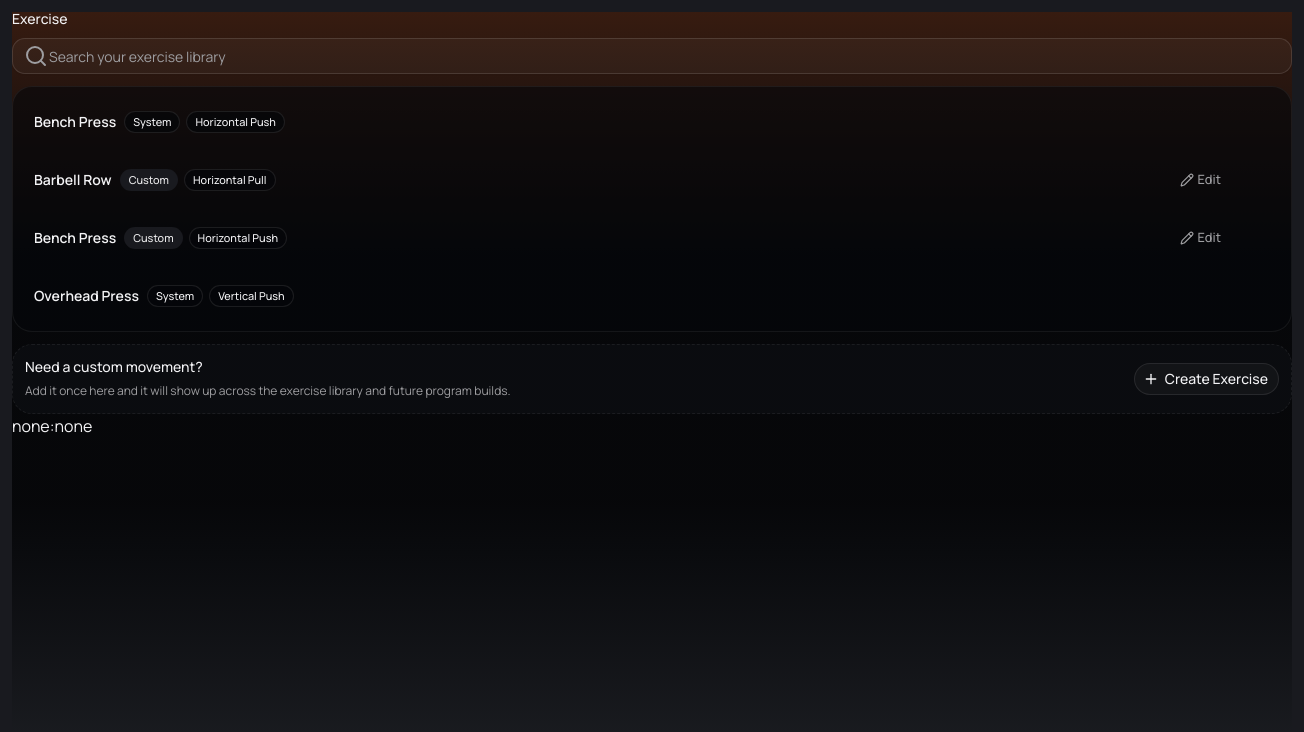
Test: ExerciseLibraryField › tracks selection by exercise id when duplicate names exist
Type "bench" into the field labelled "Exercise" at (652, 56), box left=12, top=38, right=1292, bottom=74
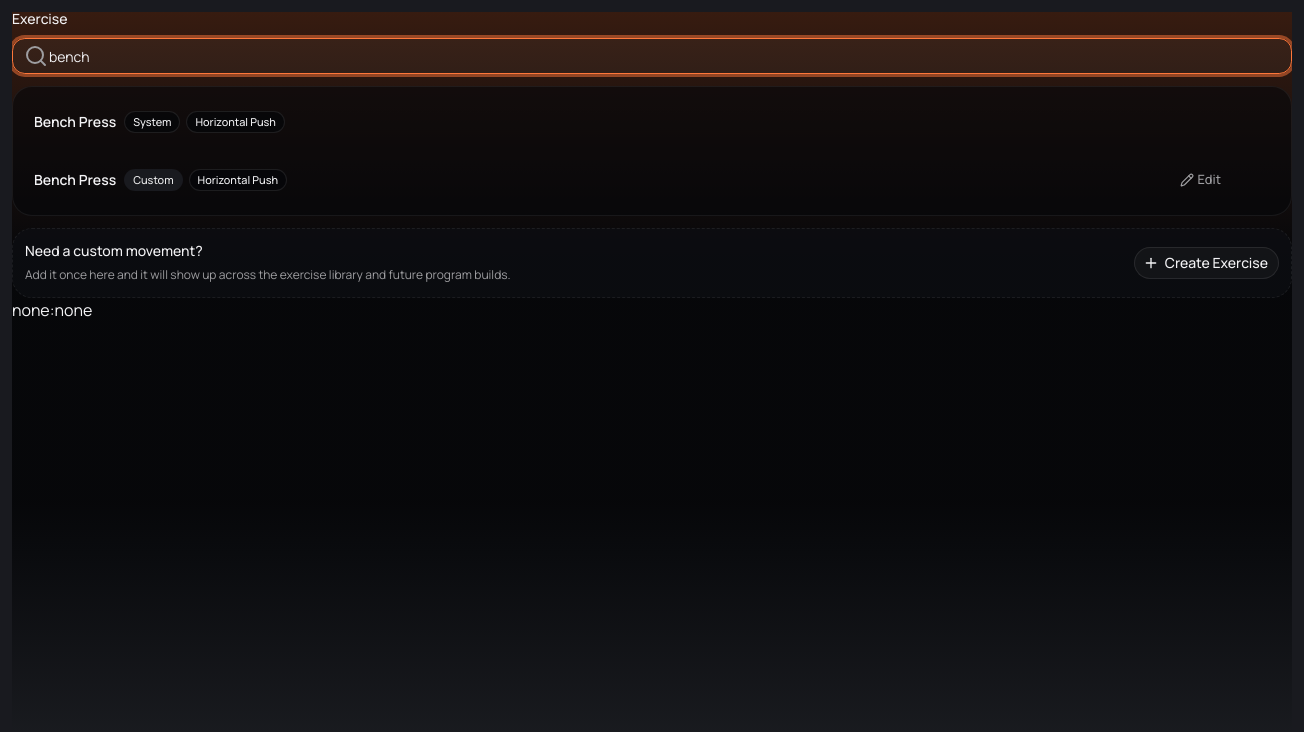
Click the button named "Choose Bench Press" at (652, 180), box left=22, top=154, right=1282, bottom=206
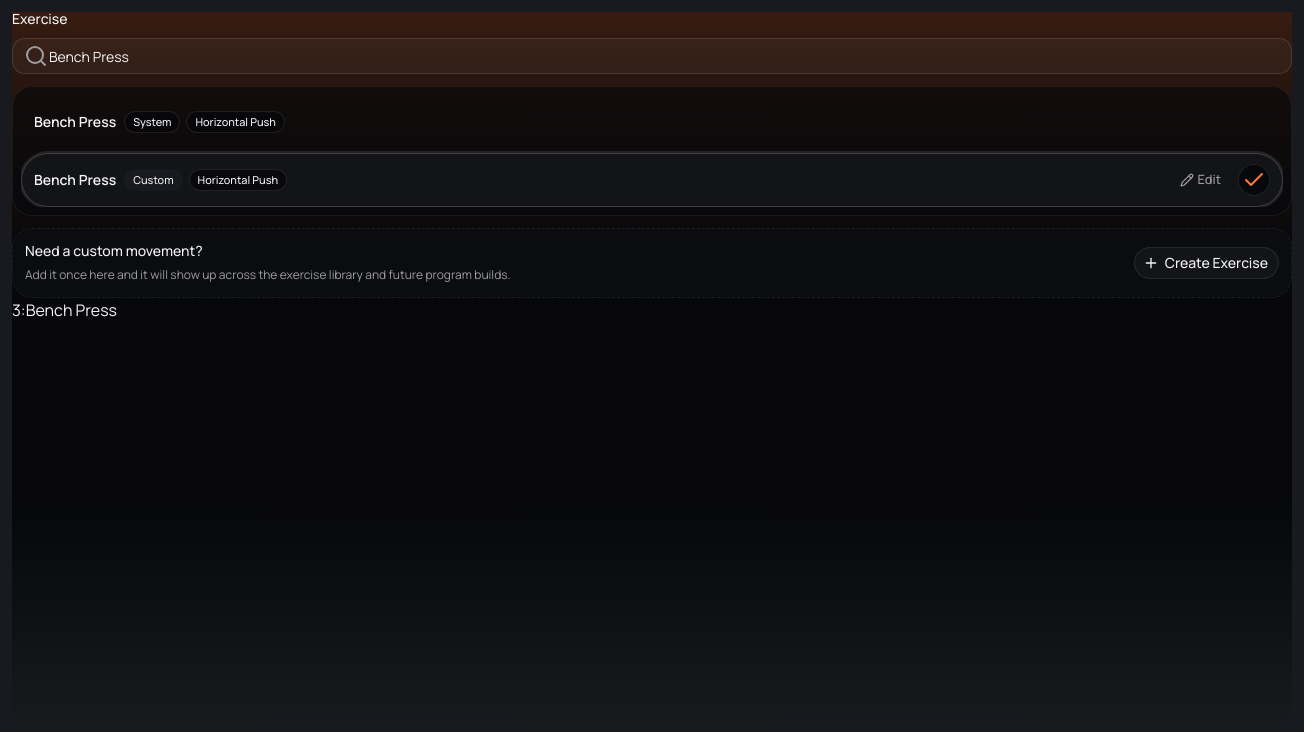
Expected: the text with test id "selection-state" reads "3:Bench Press", left=12, top=299, right=117, bottom=321
